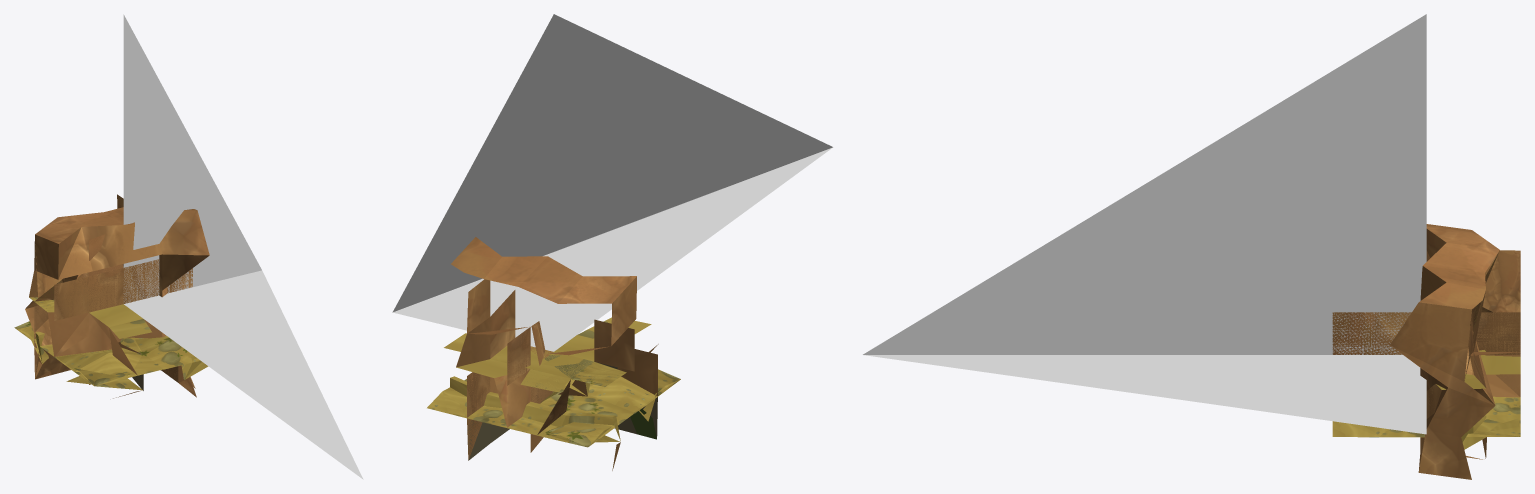
Rendered from tiles.glb.
3 renders of one model, left to right at view 1: azimuth 30°, elevation 25°; view 2: azimuth 150°, elevation 25°; view 3: azimuth 270°, elevation 25°, orthographic. The views are drawn at different scales.
Visible parts, largest first — view 1: mb_frame, ell_b1h2_b, edge_inner_b4h2_outdoor, tetra_b1h3, edge_inner_b2h4, edge_b1h1_outdoor, tetra_b3h1, ell_inner_b1h4, corner_inner_b4h3, ell_inner_b4h1_outdoor, spike_inner_b3h3, edge_inner_b3h3 (+6 smaller); view 2: mb_frame, ell_b1h2_b, twist_left_b1h3, ell_b2h1_b, edge_b2h0_outdoor, slab_b4h0_outdoor, edge_inner_b4h2_outdoor, twist_left_b3h1_outdoor, spike_inner_b3h3, tetra_b3h1_outdoor, corner_b1h0_outdoor, spike_b1h1 (+6 smaller); view 3: mb_frame, ell_b1h2_b, corner_inner_b3h4, edge_b1h1_outdoor, ell_b1h2_a, ell_inner_b4h1_outdoor, tetra_b1h3, tetra_b3h1, twist_left_b3h1_outdoor.
Part boxes in pixels (x1=…): mb_frame: x1=123, y1=14, x2=363, y2=479; ell_b1h2_b: x1=34, y1=207, x2=209, y2=297; edge_inner_b4h2_outdoor: x1=54, y1=313, x2=198, y2=385; tetra_b1h3: x1=34, y1=268, x2=123, y2=341; edge_inner_b2h4: x1=123, y1=259, x2=192, y2=303; edge_b1h1_outdoor: x1=25, y1=244, x2=78, y2=374; tetra_b3h1: x1=47, y1=312, x2=90, y2=384; ell_inner_b1h4: x1=34, y1=277, x2=88, y2=377; corner_inner_b4h3: x1=89, y1=304, x2=143, y2=327; ell_inner_b4h1_outdoor: x1=55, y1=313, x2=147, y2=356; spike_inner_b3h3: x1=109, y1=319, x2=200, y2=390; edge_inner_b3h3: x1=89, y1=268, x2=123, y2=312; mb_frame: x1=392, y1=14, x2=832, y2=351; ell_b1h2_b: x1=451, y1=237, x2=636, y2=459; twist_left_b1h3: x1=594, y1=319, x2=657, y2=396; ell_b2h1_b: x1=467, y1=279, x2=575, y2=444; edge_b2h0_outdoor: x1=427, y1=376, x2=620, y2=442; slab_b4h0_outdoor: x1=447, y1=379, x2=657, y2=438; edge_inner_b4h2_outdoor: x1=490, y1=347, x2=680, y2=413; twist_left_b3h1_outdoor: x1=456, y1=317, x2=669, y2=436; spike_inner_b3h3: x1=467, y1=317, x2=657, y2=460; tetra_b3h1_outdoor: x1=523, y1=352, x2=626, y2=392; corner_b1h0_outdoor: x1=543, y1=422, x2=620, y2=470; spike_b1h1: x1=630, y1=369, x2=680, y2=439; mb_frame: x1=863, y1=14, x2=1426, y2=434; ell_b1h2_b: x1=1390, y1=224, x2=1499, y2=479; corner_inner_b3h4: x1=1332, y1=312, x2=1411, y2=354; edge_b1h1_outdoor: x1=1482, y1=250, x2=1520, y2=312; ell_b1h2_a: x1=1473, y1=254, x2=1520, y2=354; ell_inner_b4h1_outdoor: x1=1486, y1=374, x2=1519, y2=415; tetra_b1h3: x1=1476, y1=312, x2=1520, y2=354; tetra_b3h1: x1=1462, y1=355, x2=1520, y2=449; twist_left_b3h1_outdoor: x1=1482, y1=355, x2=1520, y2=374.
Bounding box in the file's own units: 1.5 × 2.5 × 3.5.
5 materials, 3 textured.
